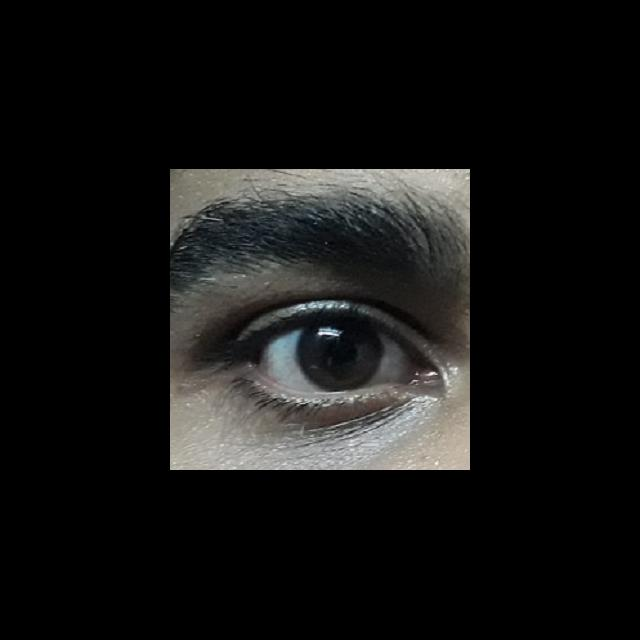eye: (255, 322, 415, 395)
iris: (298, 326, 383, 391)
